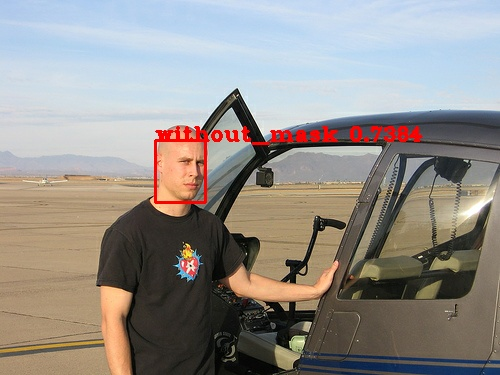without_mask: (153, 140, 209, 199)
